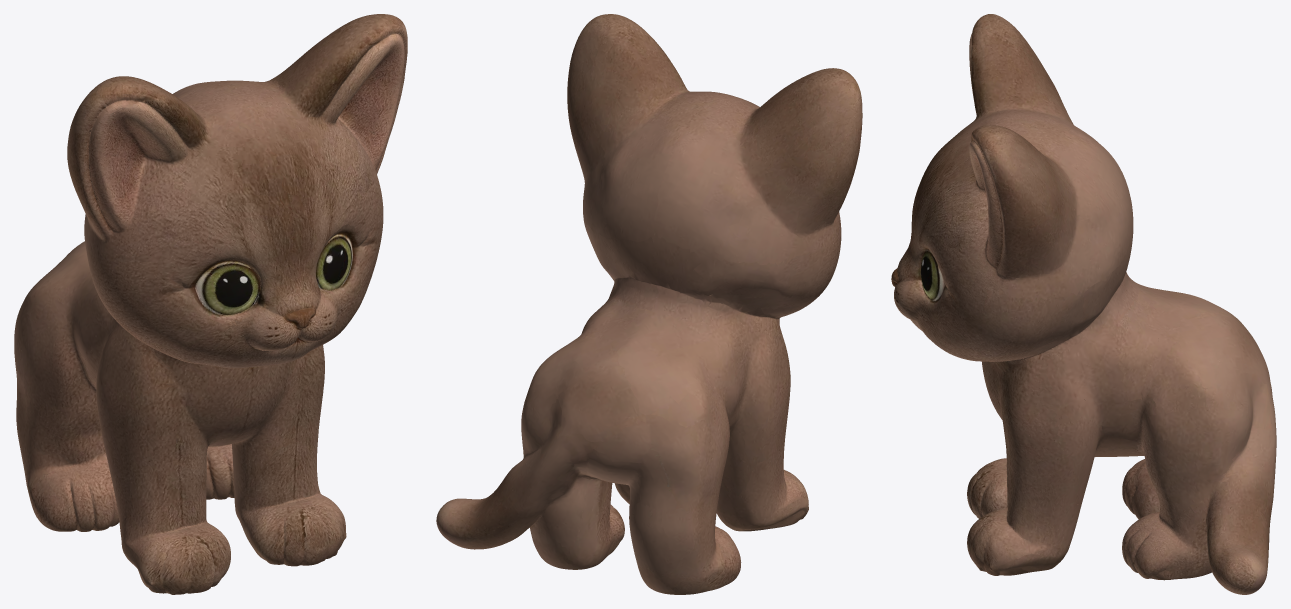
The model's file is meshy-havana.glb.
The picture shows the model from 3 angles, left to right: view 1: azimuth 30°, elevation 25°; view 2: azimuth 150°, elevation 25°; view 3: azimuth 270°, elevation 25°; orthographic projection. The views are drawn at different scales.
Parts seen in each view (by area): view 1: Mesh_0; view 2: Mesh_0; view 3: Mesh_0.
Part boxes in pixels (box(x1,y1,x2,y2)): Mesh_0: box(14, 14, 407, 594); Mesh_0: box(436, 14, 862, 594); Mesh_0: box(891, 14, 1276, 594).
Bounding box in the file's own units: 1.33 × 1.9 × 1.43.
1 material, 1 textured.
